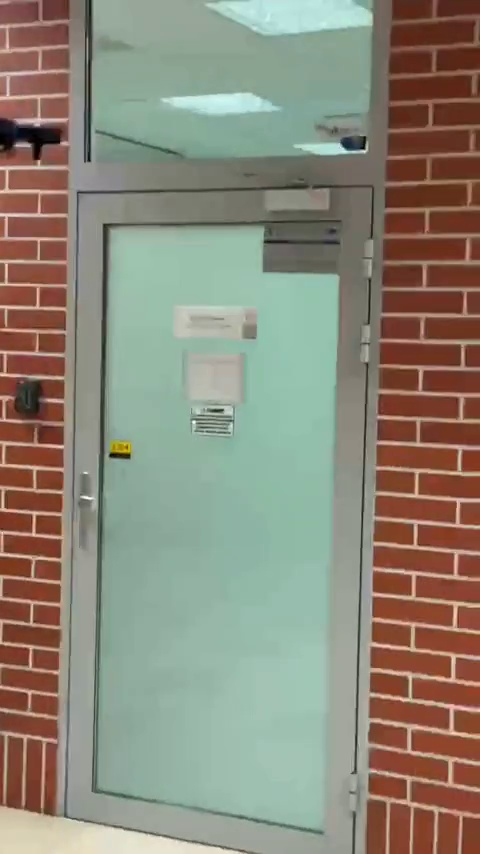drone: (0, 112, 65, 162)
